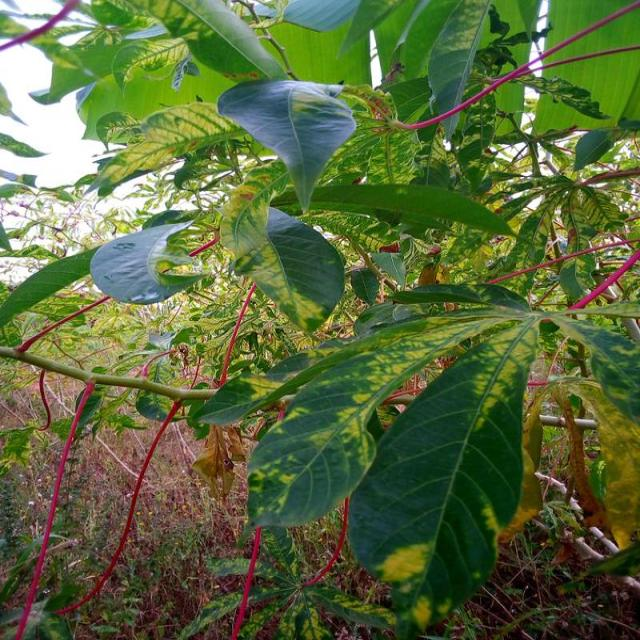cassava leaf: (240, 300, 531, 535), (346, 314, 539, 636), (218, 178, 344, 334), (216, 76, 356, 211), (88, 216, 205, 305)
